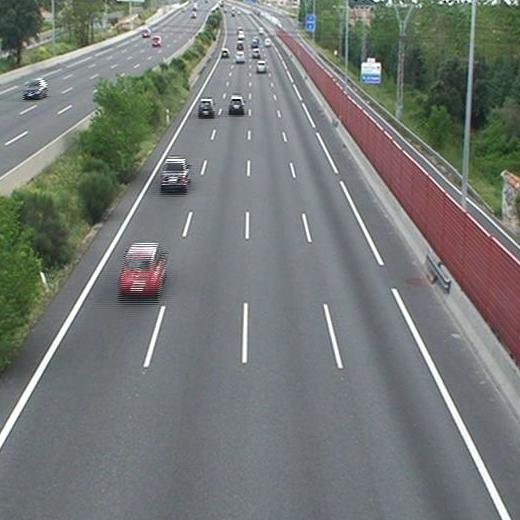car: (119, 244, 164, 293), (161, 158, 189, 190), (199, 98, 215, 117), (229, 97, 244, 111), (234, 52, 245, 63), (256, 61, 267, 71), (252, 49, 261, 59), (263, 38, 272, 47), (221, 48, 229, 57), (235, 42, 243, 50)
